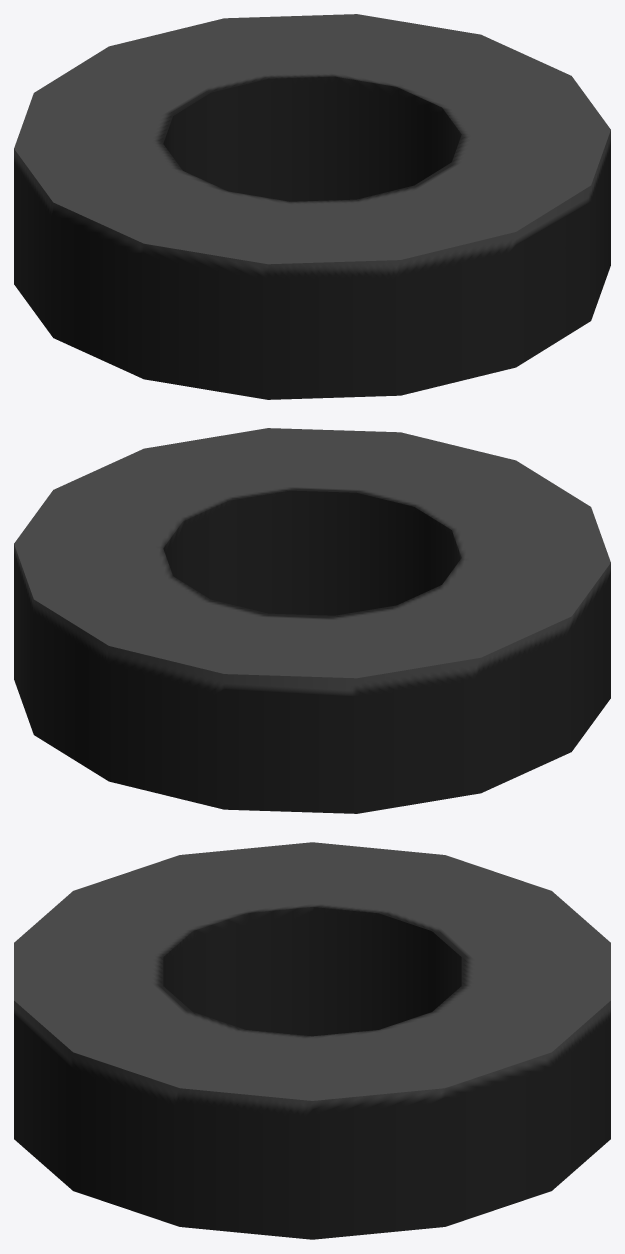
File: Olive.fbx
3 views of the same model, one above another, from view 1: azimuth 30°, elevation 25°; view 2: azimuth 150°, elevation 25°; view 3: azimuth 270°, elevation 25° (orthographic). The views are drawn at different scales.
Visible parts, largest first — view 1: Olive; view 2: Olive; view 3: Olive.
Part boxes in pixels (x1,y1,x2,y2): Olive: (14,14,610,399); Olive: (14,428,610,813); Olive: (14,842,610,1239).
Size of the model in its own units: 17.08 by 4.27 by 16.65.
